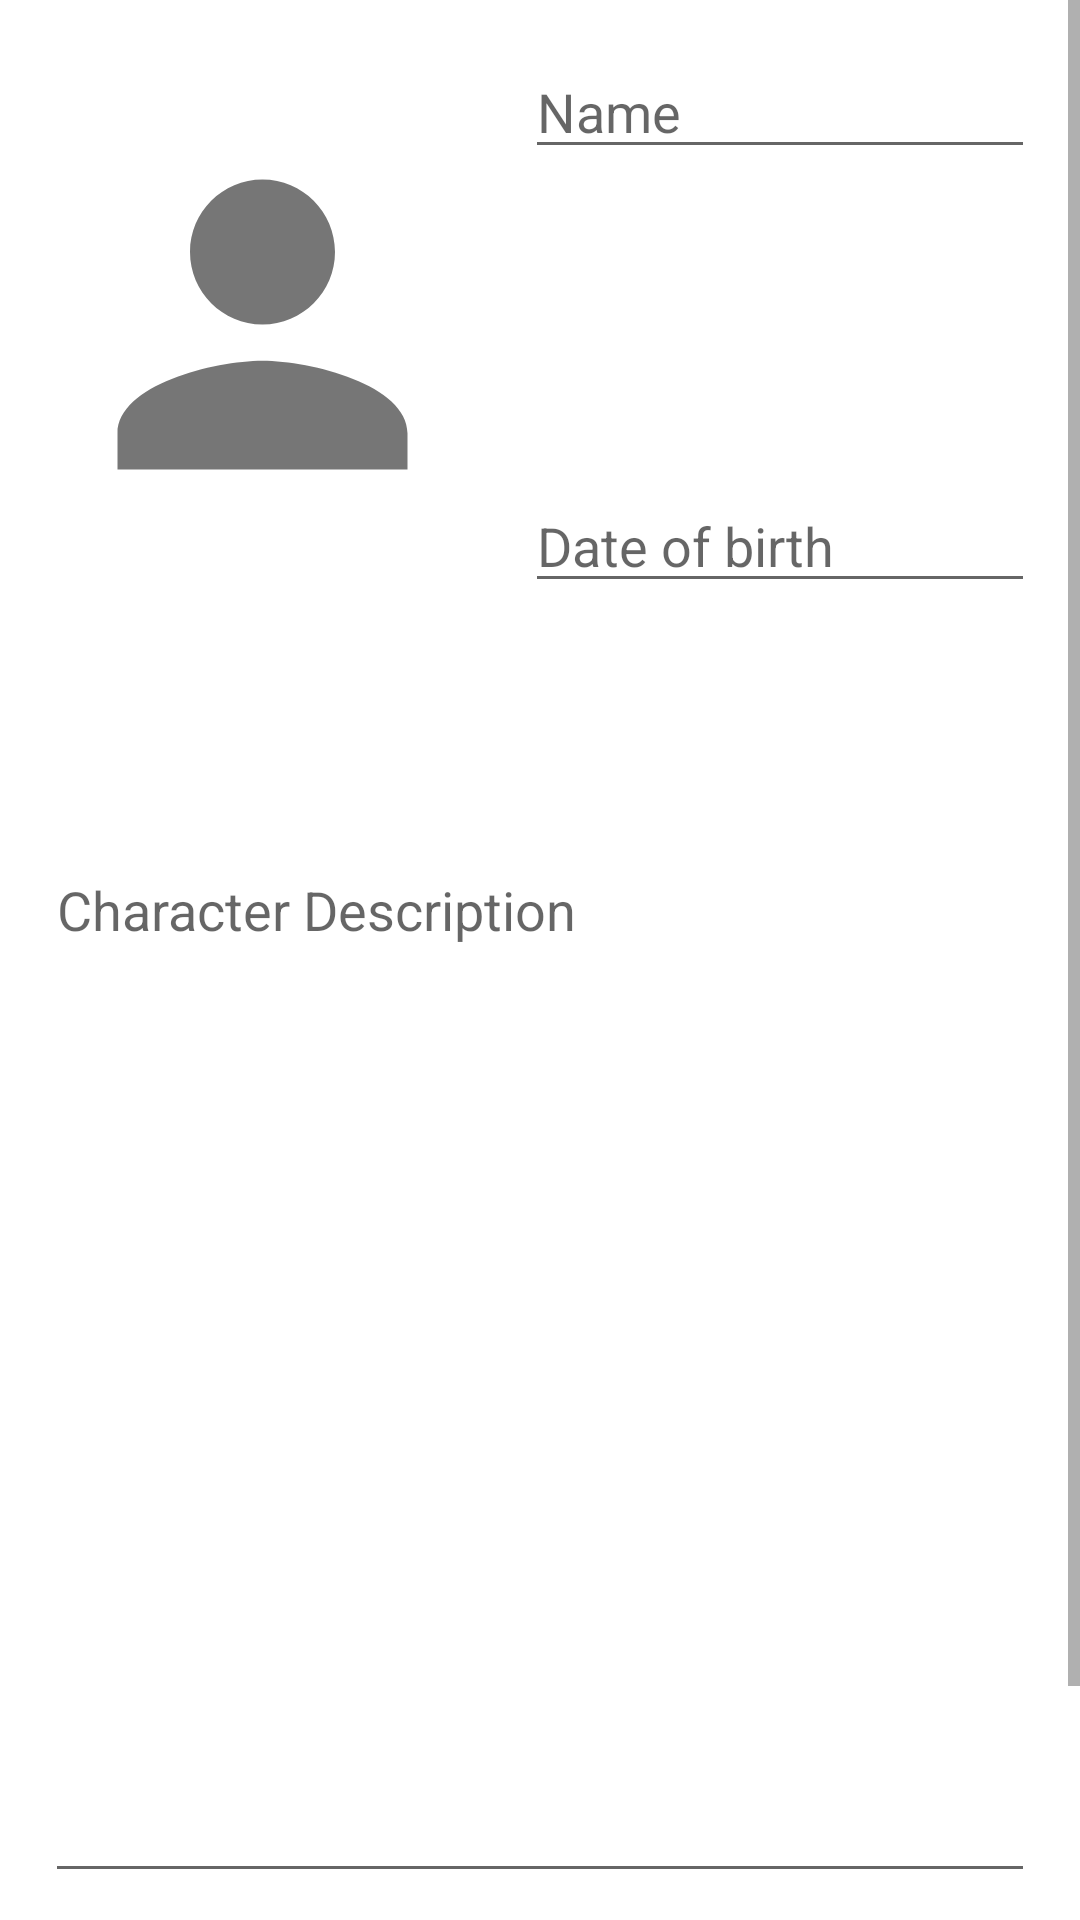

Icons on this 1080 × 1920 Android screen, each with its box as (x1, y1, x2, y2):
person: (117, 179, 408, 470)
